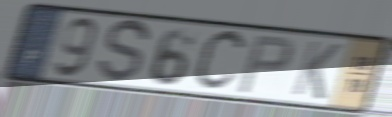6: (149, 25, 198, 88)
9: (52, 15, 98, 79)
C: (190, 27, 250, 96)
K: (289, 38, 344, 103)
P: (234, 34, 296, 96)
S: (94, 17, 153, 86)
